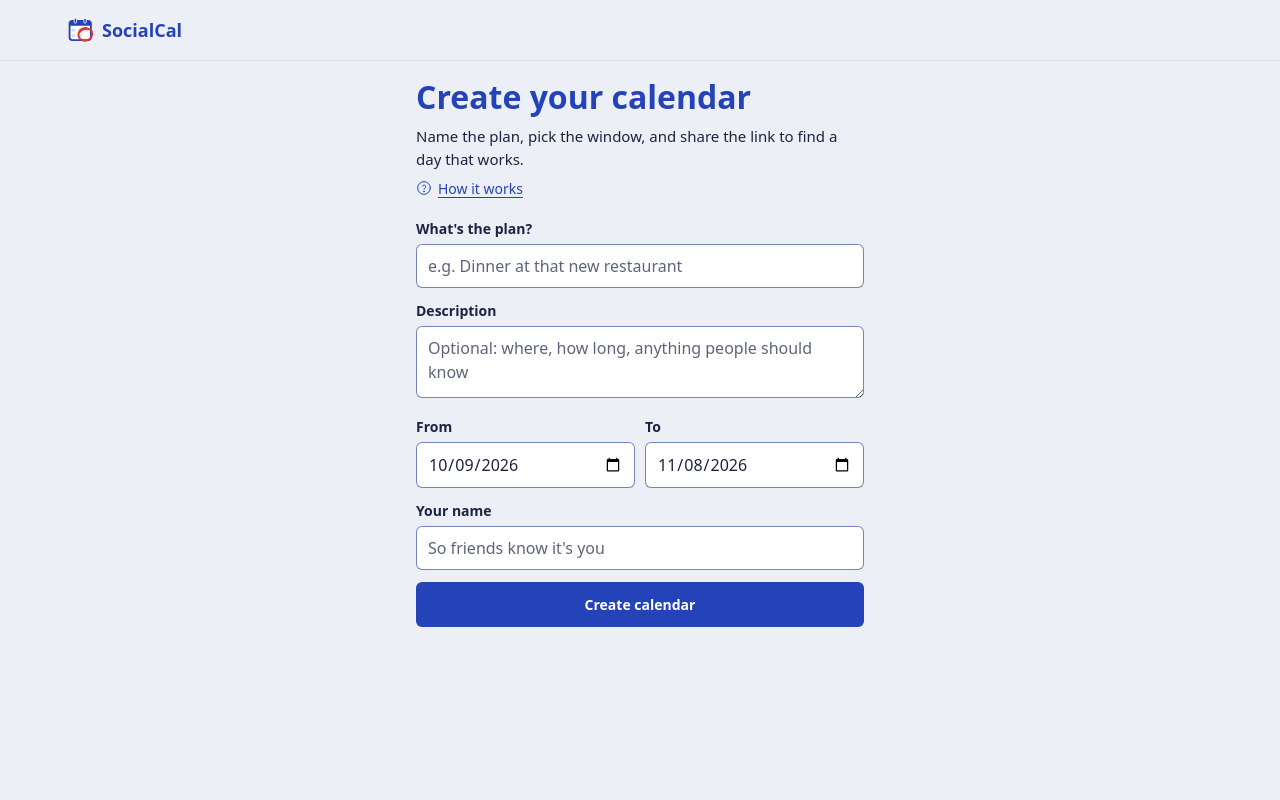
Test case: CreatePage › marks invalid fields and points them at their error
This screenshot has width=1280, height=800.
Click the button "Create calendar": (640, 604) x1=416 y1=582 x2=864 y2=626
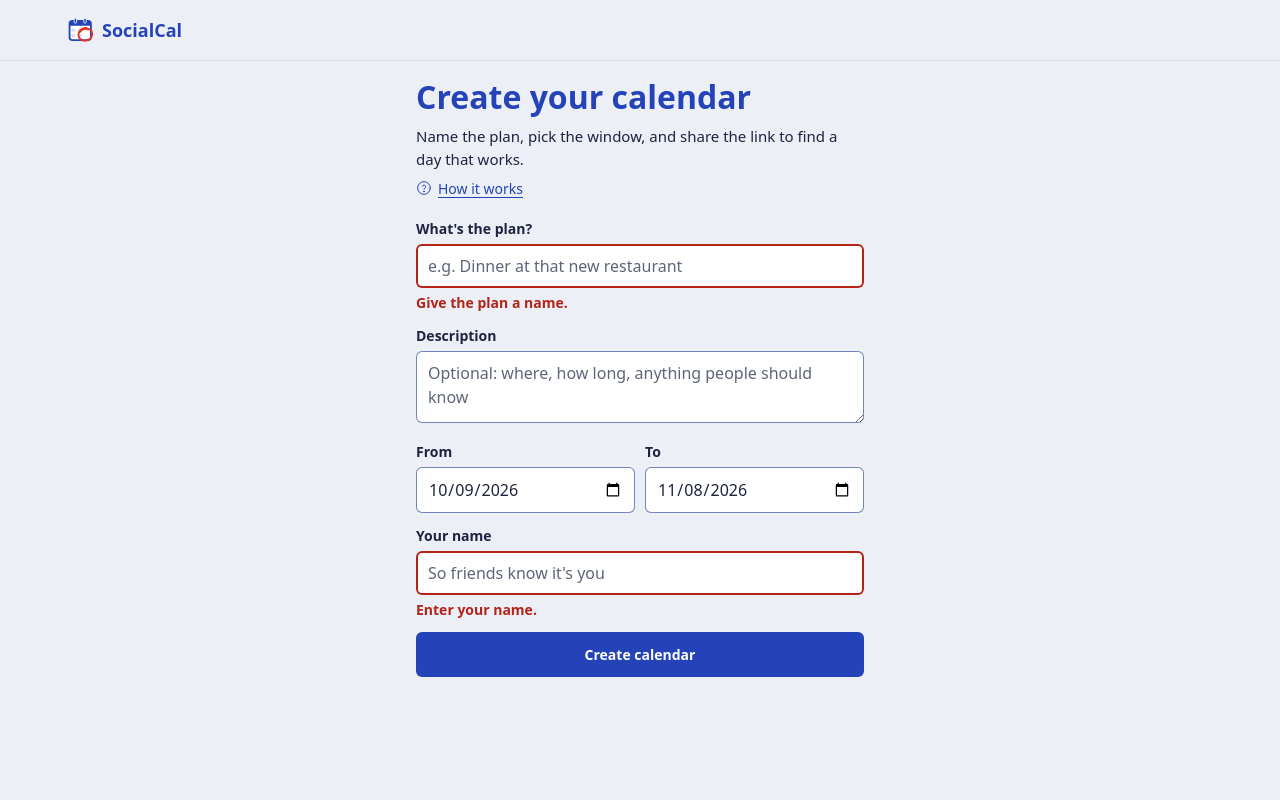
Result: the text "Give the plan a name." is shown at x1=416 y1=293 x2=568 y2=312
Result: the text "Enter your name." is shown at x1=416 y1=600 x2=537 y2=618
